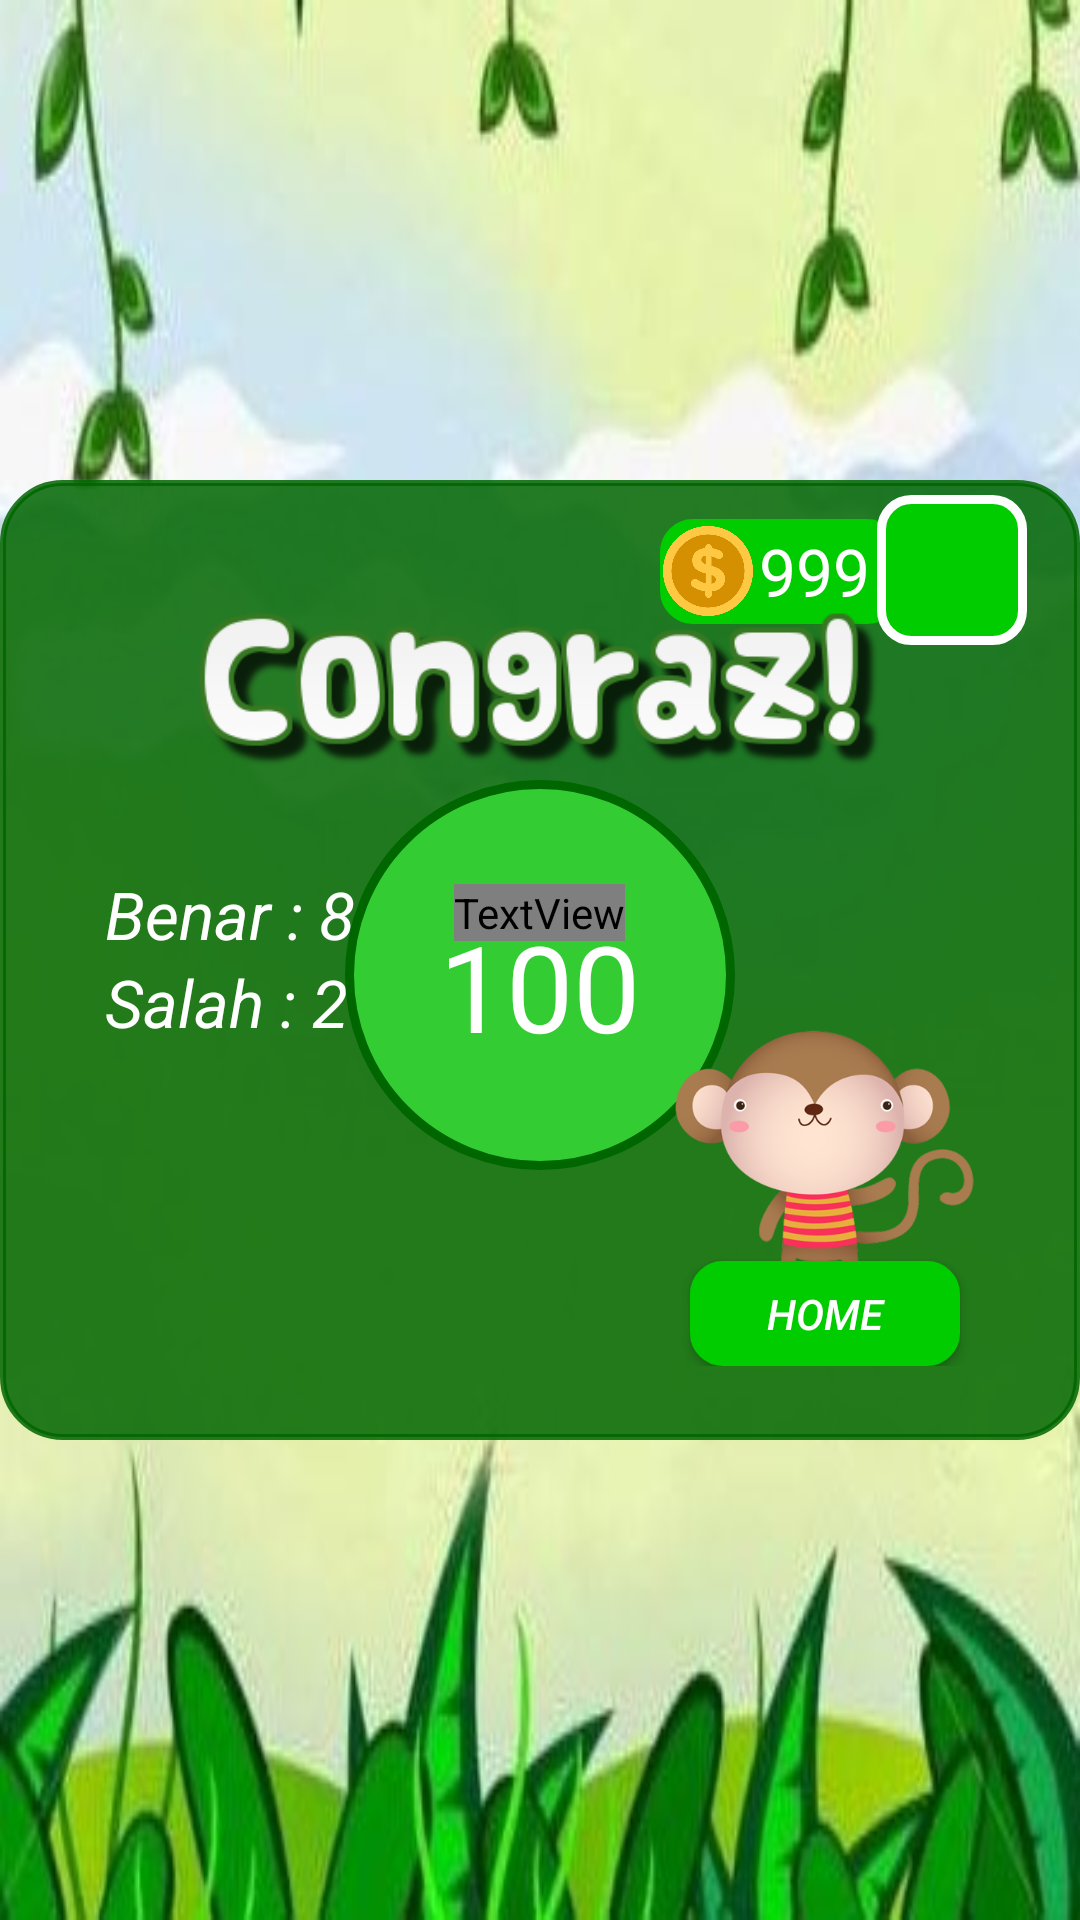

Icons on this 1080px×1920px Android screen, each with the point to tap as (x,y):
coin: (708,571)
